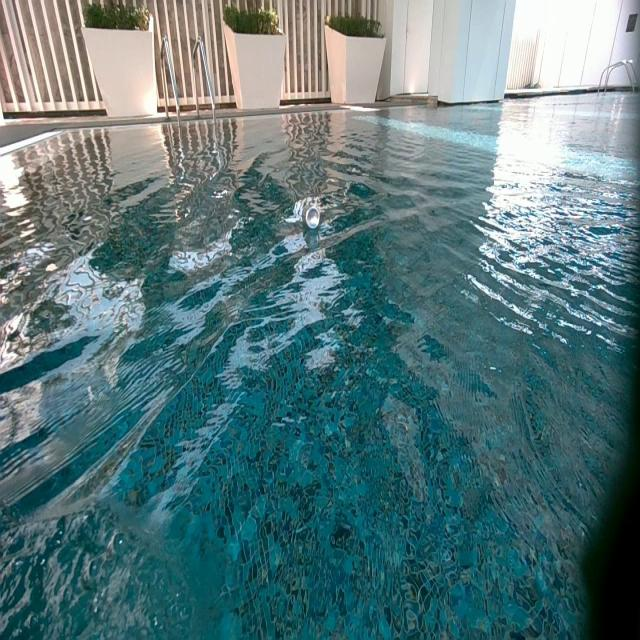Cans: (304, 201, 322, 228)
